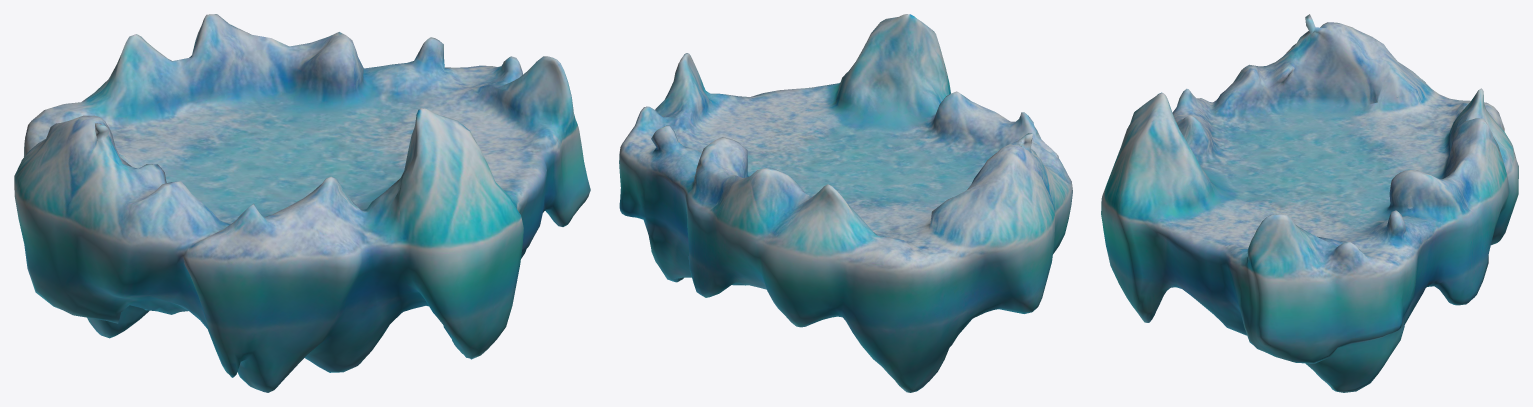
File: Island Ice.fbx
3 renders of one model, left to right at view 1: azimuth 30°, elevation 25°; view 2: azimuth 150°, elevation 25°; view 3: azimuth 270°, elevation 25°, orthographic. The views are drawn at different scales.
Visible parts, largest first — view 1: mesh; view 2: mesh; view 3: mesh.
Boxes of the visible parts, left/top/right/bottom form: mesh: left=14, top=14, right=590, bottom=392; mesh: left=619, top=14, right=1072, bottom=392; mesh: left=1101, top=14, right=1518, bottom=392.
Bounding box in the file's own units: 99.93 × 55.65 × 84.47.
